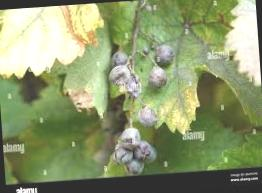Grape Rotten: (105, 37, 182, 175), (148, 64, 168, 87)
